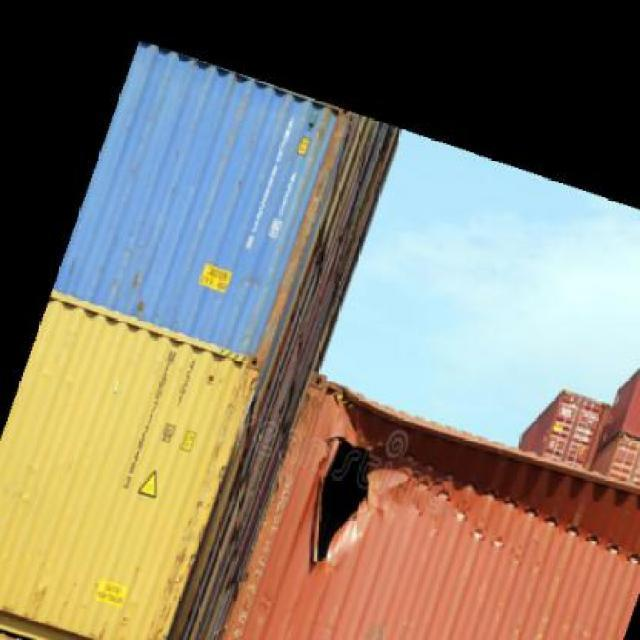hole: (293, 430, 393, 582)
